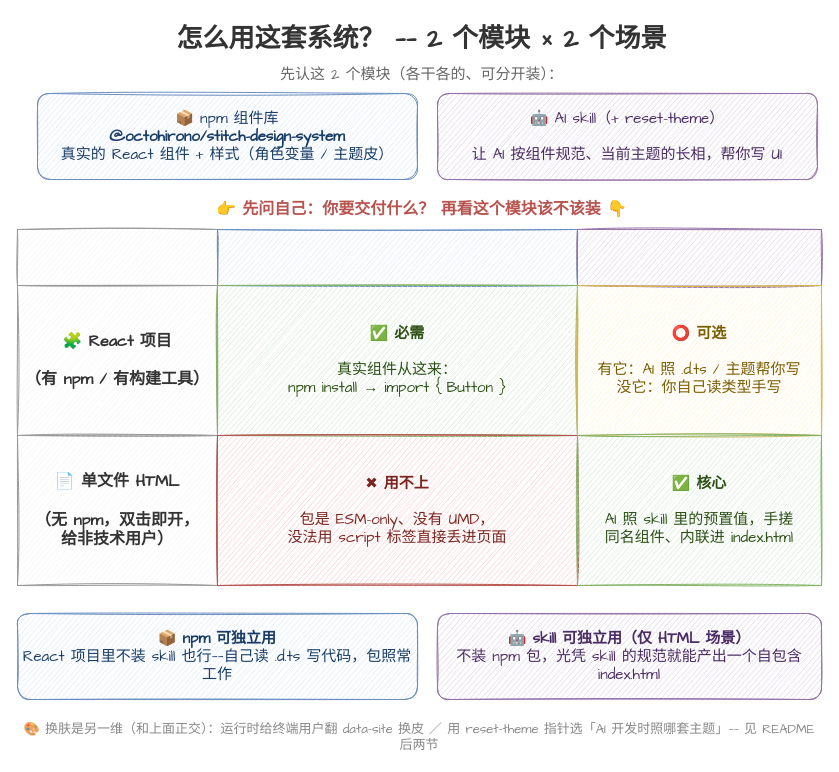
Image size: 839x772. Some labels were removed from this diagram. The shapes that lost their labels are listed below. From the top down, each one's centre as x and y in pixels, then its label:
the point at 117,257: 场景 ↓ ／ 模块 →
the point at 397,257: 📦 npm 组件库
the point at 699,257: 🤖 AI skill
